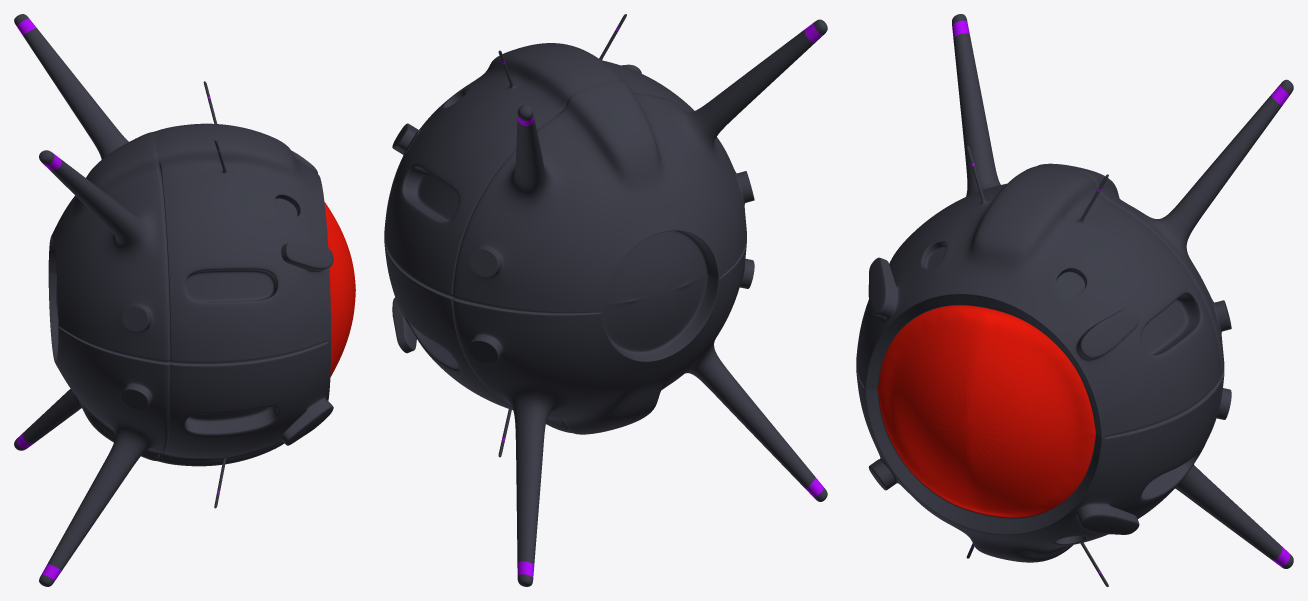
Rendered from recon_drone.fbx.
3 renders of one model, left to right at view 1: azimuth 30°, elevation 25°; view 2: azimuth 150°, elevation 25°; view 3: azimuth 270°, elevation 25°, orthographic. The views are drawn at different scales.
Parts seen in each view (by area): view 1: Sphere; view 2: Sphere; view 3: Sphere.
Part boxes in pixels (<box>): Sphere: <box>14,14,355,586</box>; Sphere: <box>384,14,827,586</box>; Sphere: <box>856,14,1293,586</box>.
Bounding box in the file's own units: 234 × 290 × 236.
